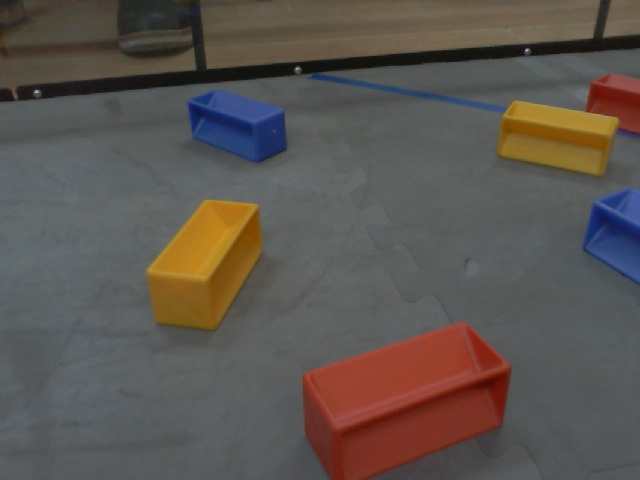BlueSample: (185, 87, 292, 163), (579, 183, 640, 285)
RedSample: (297, 319, 515, 479), (585, 68, 640, 141)
YellowSample: (144, 191, 267, 334), (494, 98, 624, 181)
